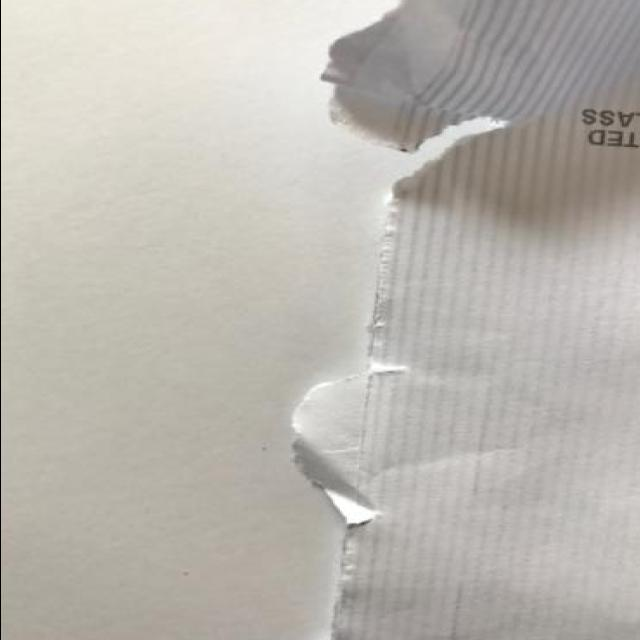kertas: (287, 0, 640, 640)
